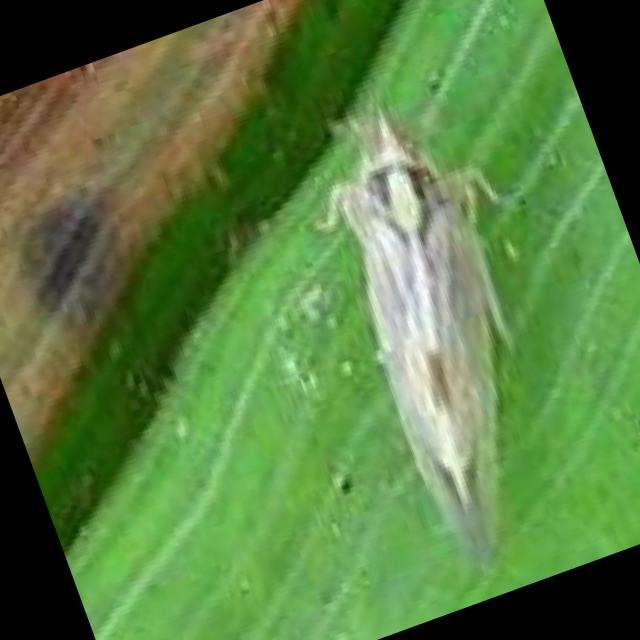brown-planthopper: (280, 83, 590, 578)
